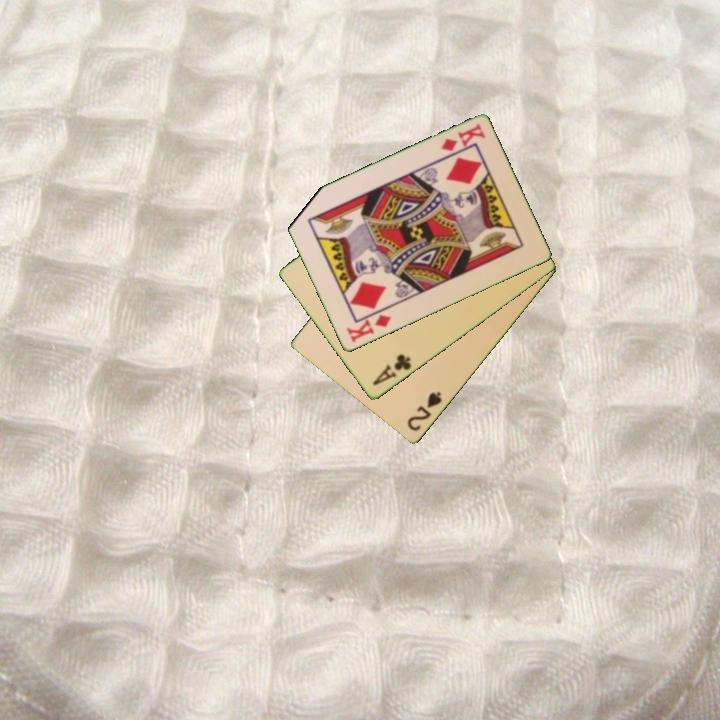2s: (404, 389, 445, 435)
Ac: (369, 351, 414, 389)
Kd: (343, 311, 394, 346), (438, 120, 488, 155)
